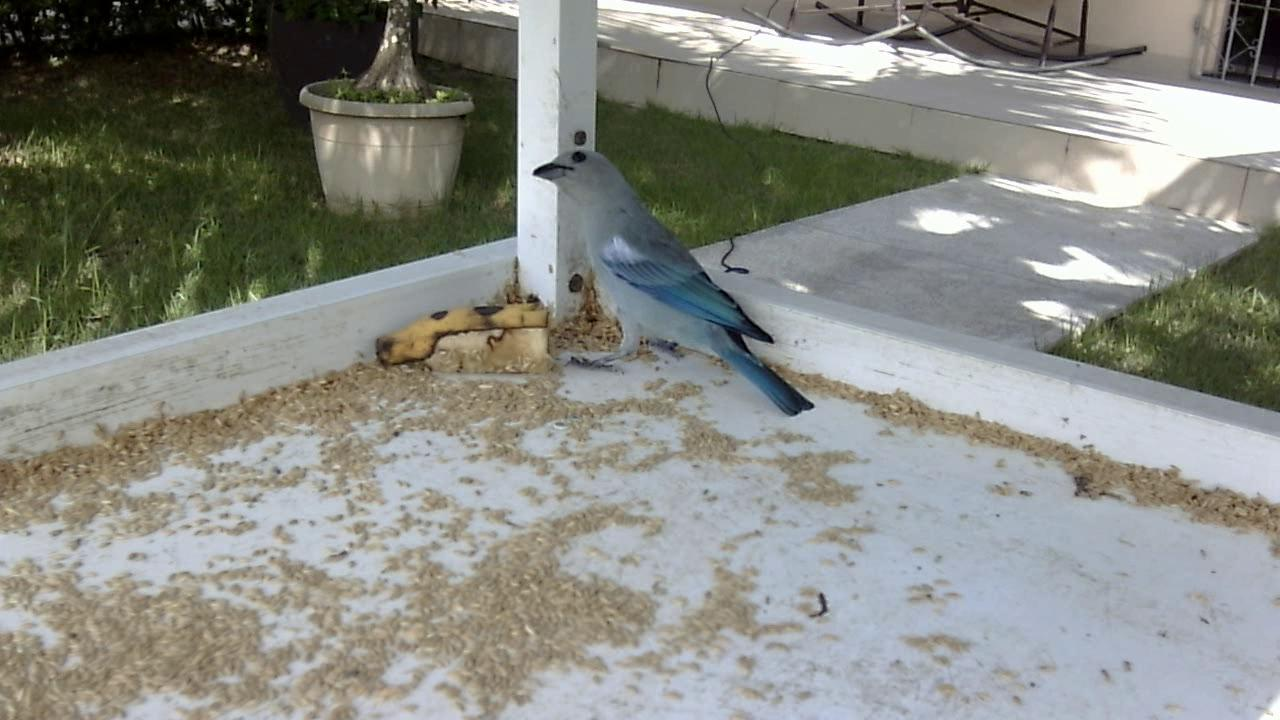sanhaco_da_amazonia: (523, 138, 835, 434)
